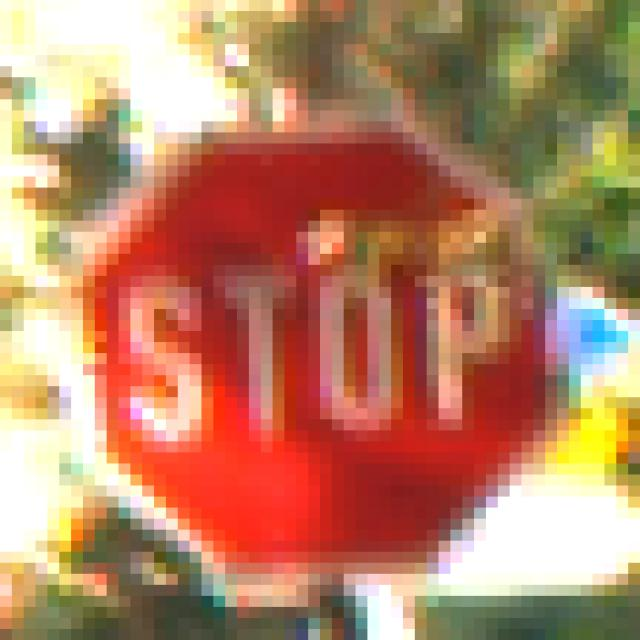STOP: (60, 67, 582, 586)
